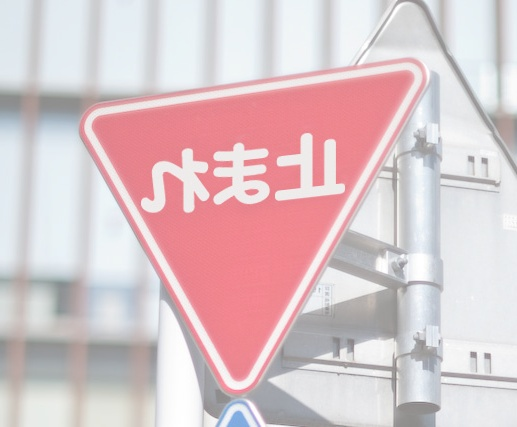Regulatory_sign_triangle: (58, 57, 432, 398)
